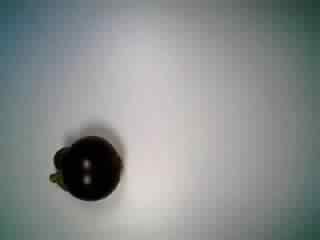mangosteen: (44, 132, 130, 203)
